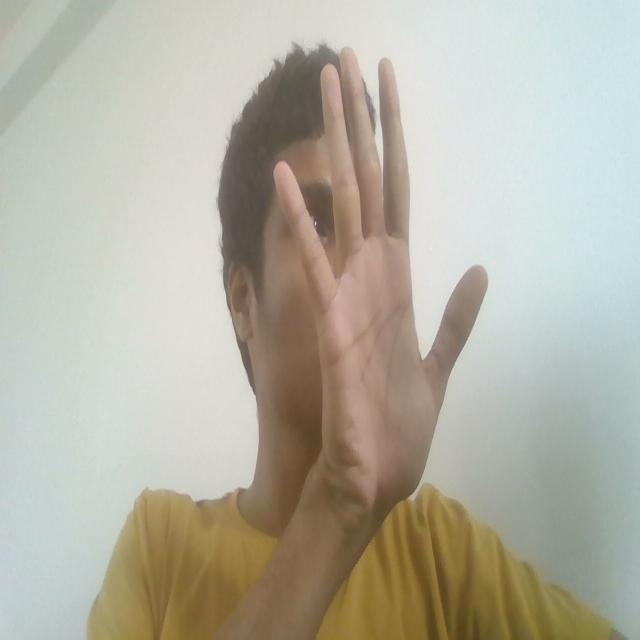Hello: (265, 36, 493, 610)
